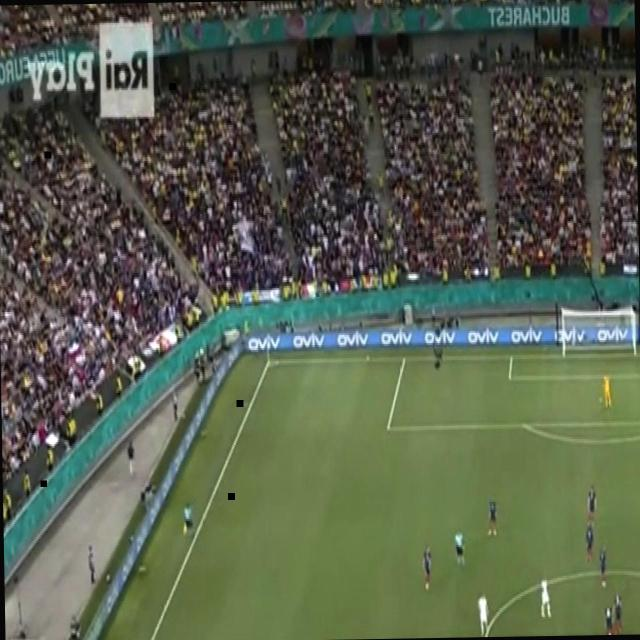ball: (105, 571, 111, 583), (180, 412, 186, 421)
player-white: (181, 500, 197, 544), (477, 589, 491, 637), (539, 570, 552, 620), (421, 544, 433, 592), (486, 496, 499, 538), (586, 484, 598, 528), (454, 527, 466, 567), (614, 588, 624, 635), (585, 522, 596, 564), (599, 543, 608, 590), (603, 368, 613, 410), (604, 604, 616, 635)
